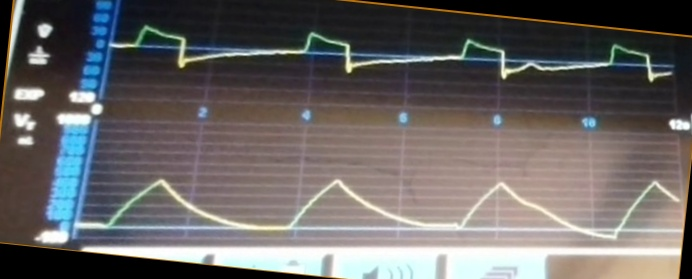Ineffective_effort Flow: (117, 22, 671, 94)
Ineffective_effort Volume: (87, 165, 678, 242)
